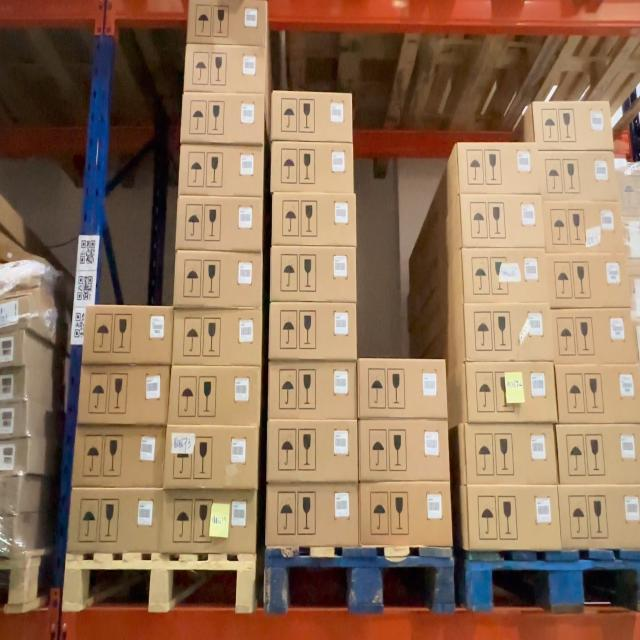box: (357, 418, 454, 483), (361, 482, 452, 546), (467, 486, 559, 548), (70, 490, 162, 552), (169, 368, 264, 426), (166, 492, 258, 551), (166, 428, 258, 487), (268, 421, 358, 481), (268, 484, 358, 544), (360, 359, 448, 419), (84, 305, 176, 362), (467, 364, 554, 424), (77, 428, 166, 486), (466, 426, 554, 484), (175, 252, 265, 308), (270, 363, 358, 420), (555, 366, 640, 425), (463, 305, 552, 361), (178, 196, 266, 252), (562, 485, 640, 548), (176, 308, 263, 364), (270, 304, 358, 359), (82, 368, 170, 422), (272, 247, 358, 302), (178, 145, 267, 196), (463, 250, 547, 304), (272, 193, 358, 245), (554, 309, 635, 363), (462, 194, 542, 248), (548, 254, 628, 308), (559, 427, 639, 481), (460, 142, 540, 194), (181, 95, 262, 145), (546, 200, 622, 253), (272, 144, 355, 192), (273, 94, 353, 142), (186, 46, 266, 94), (534, 102, 614, 149), (542, 150, 616, 200), (189, 2, 269, 45), (1, 296, 34, 331), (0, 268, 39, 294), (1, 402, 28, 439), (620, 168, 640, 215), (0, 439, 28, 472), (1, 331, 26, 366), (1, 369, 26, 403), (625, 217, 640, 263), (0, 477, 18, 512)
